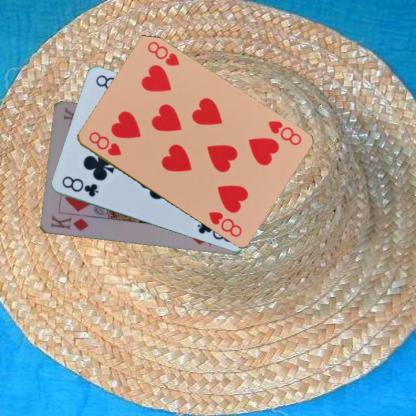8c: (59, 174, 100, 198)
8h: (265, 118, 303, 147), (86, 129, 122, 157)
Kd: (48, 213, 90, 232)
